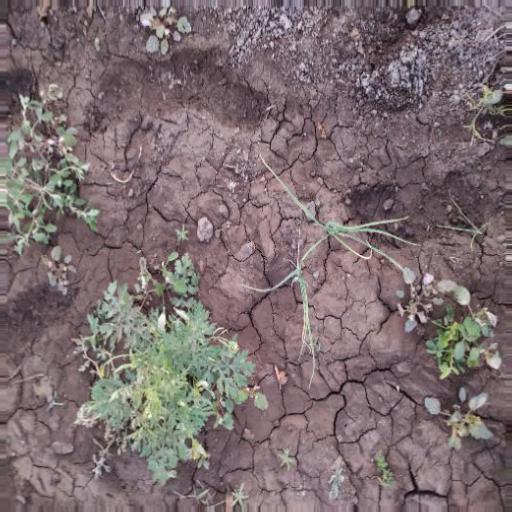weed: (77, 283, 255, 474), (403, 270, 504, 455), (1, 96, 82, 289)
